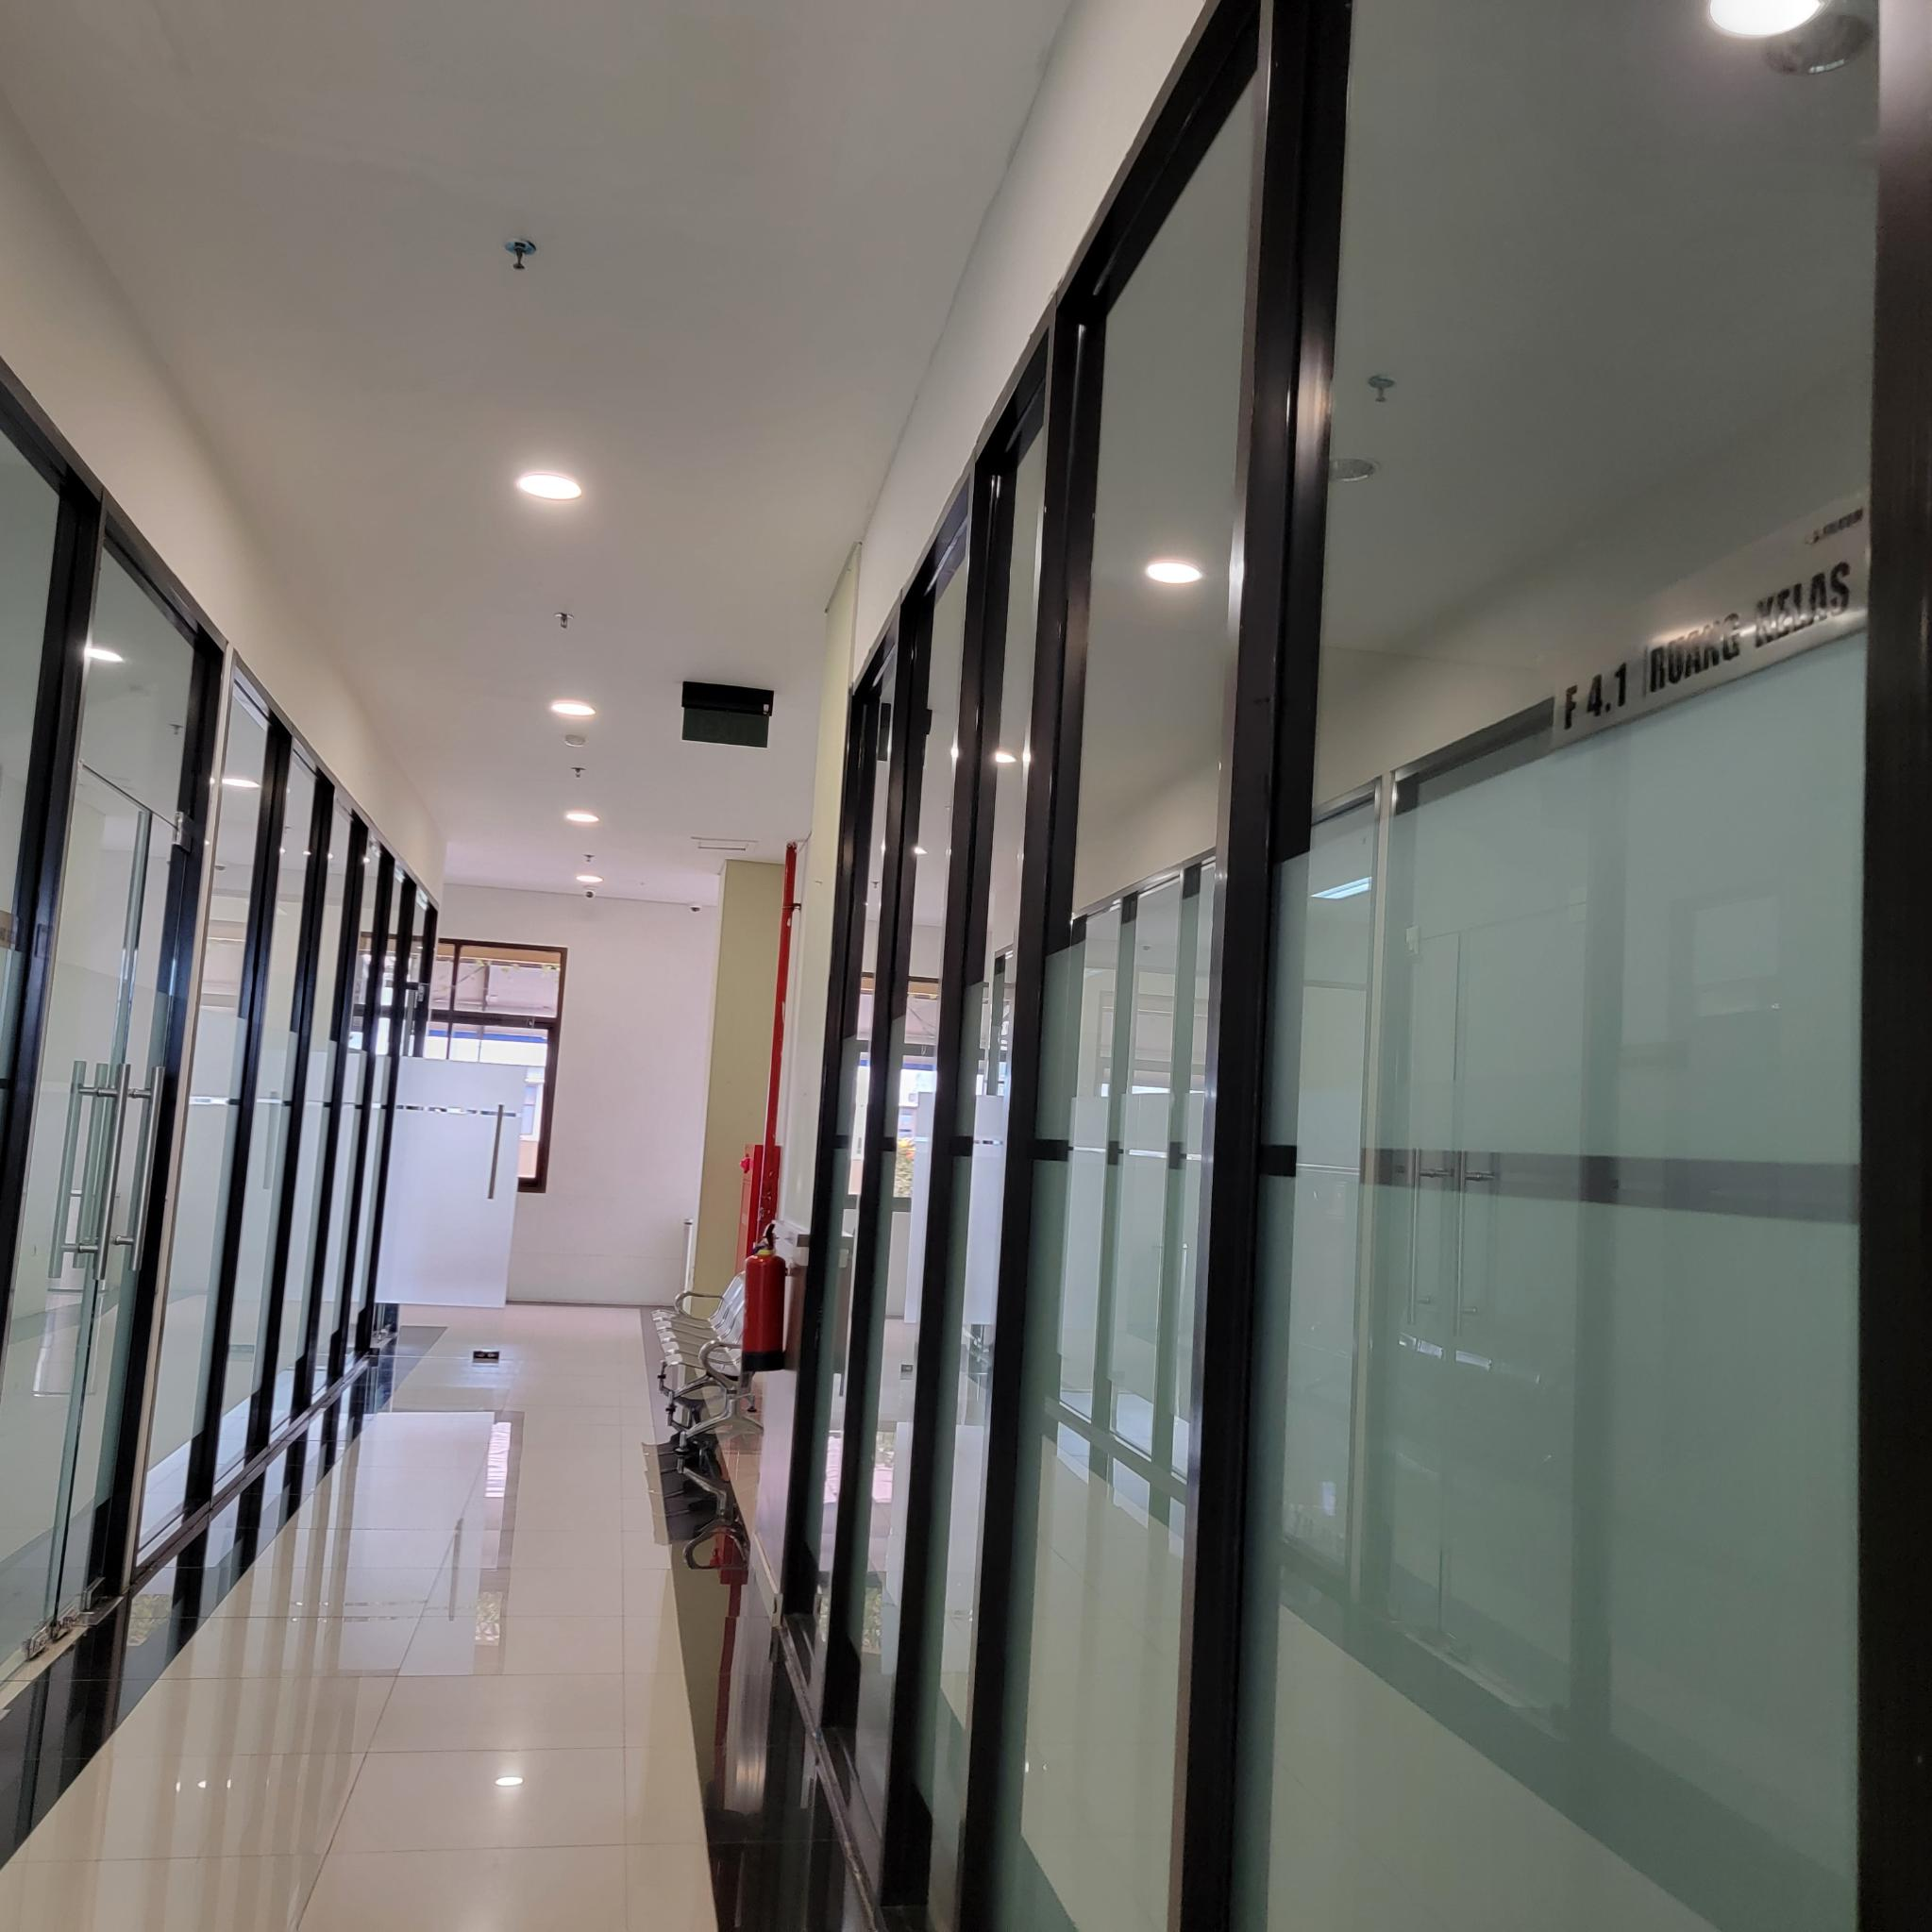plate: (1552, 483, 1872, 752)
